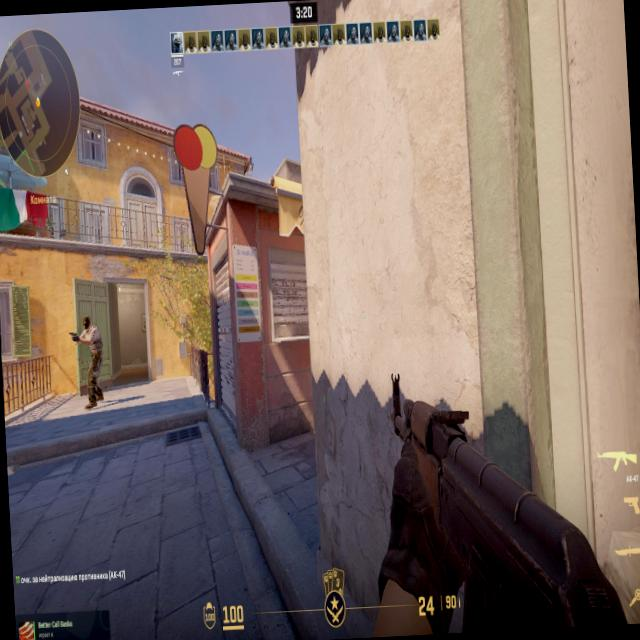T: (84, 314, 104, 388)
T_heat: (82, 314, 91, 342)
